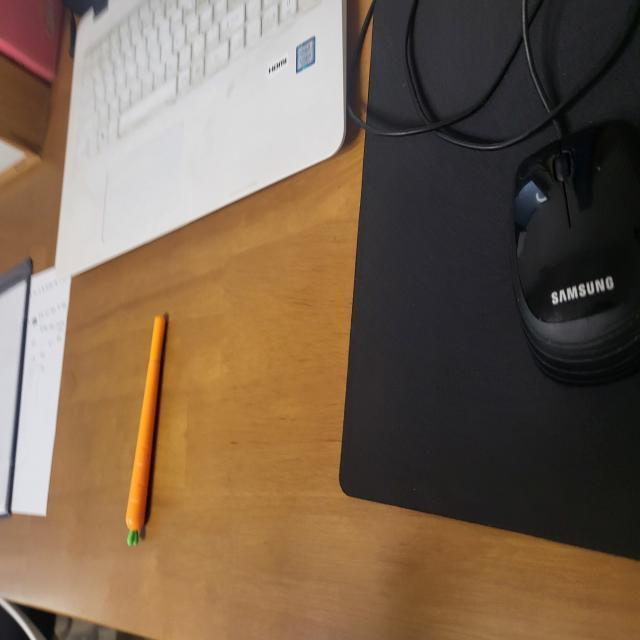carrot: (122, 306, 168, 534)
